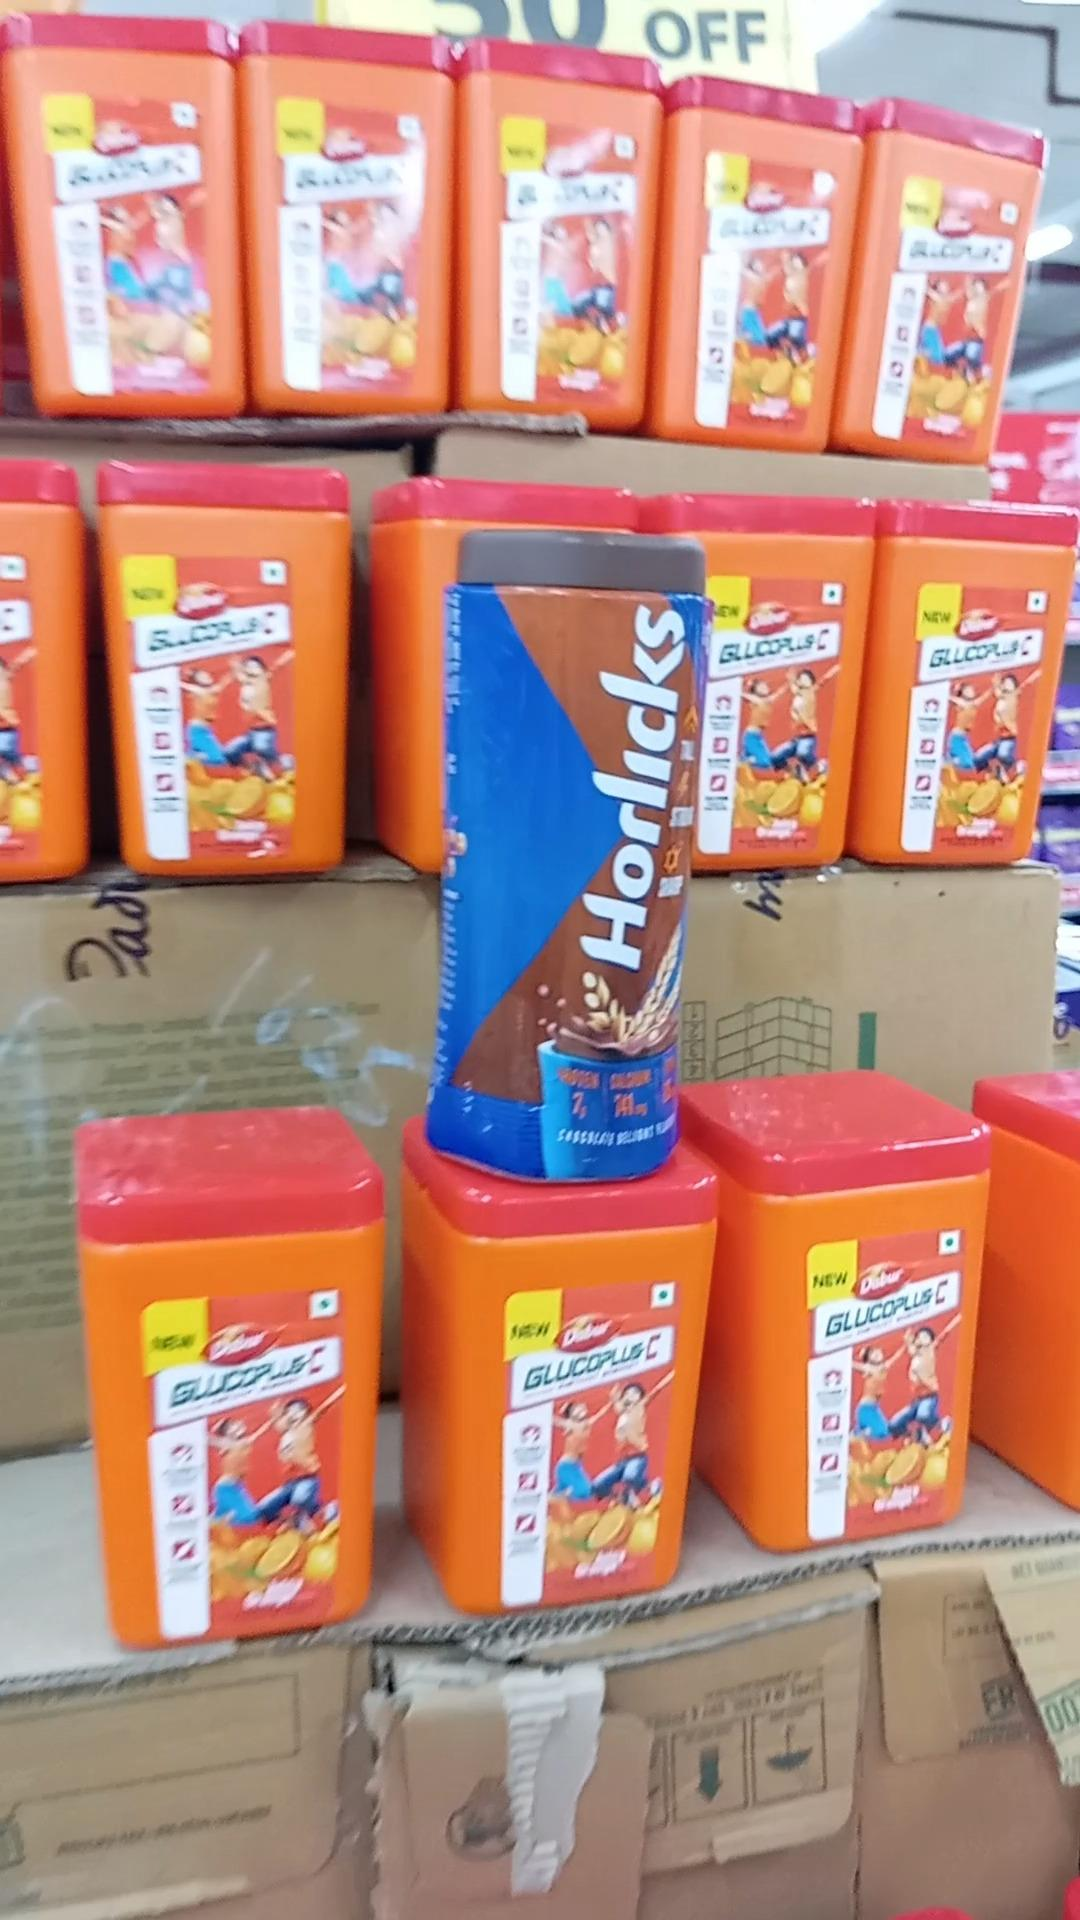HORLICK_CHOCOLATE_1_KG_JAR: (425, 529, 705, 1180)
